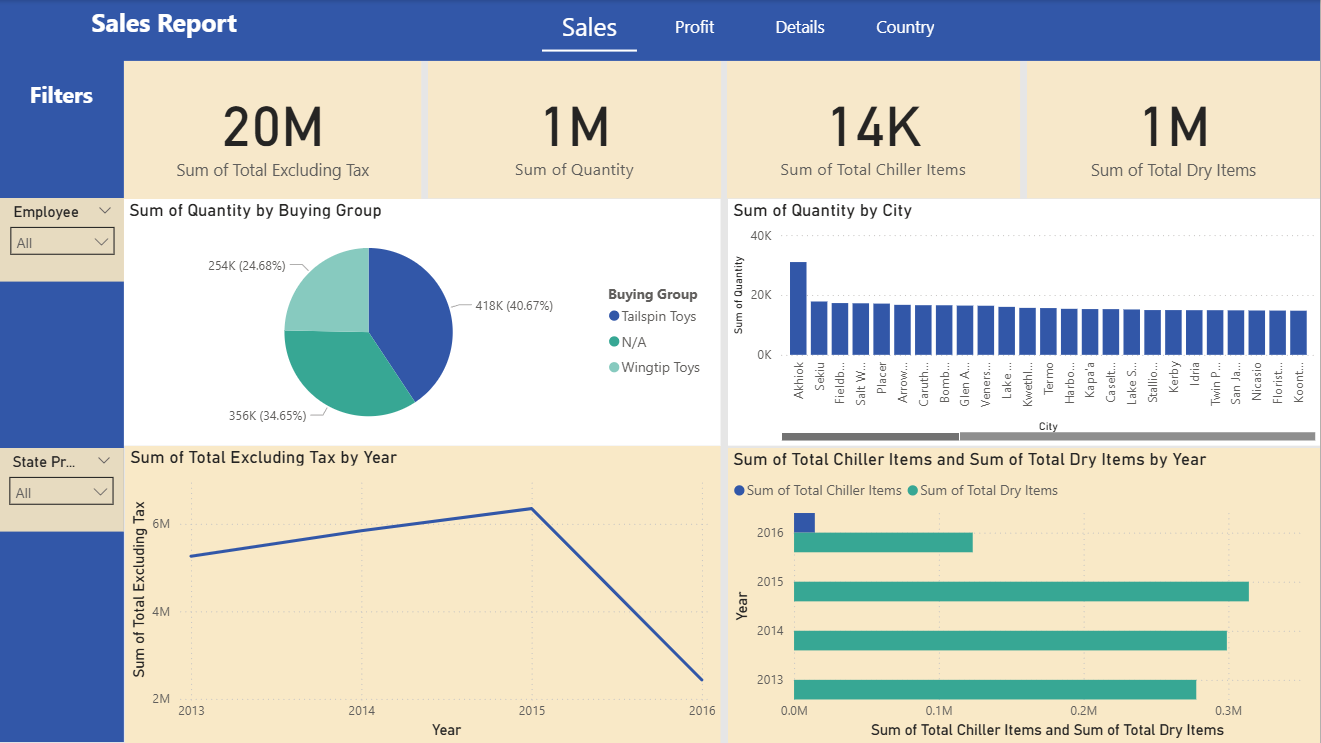

What the dashboard file says about the page in this screenshot:
{"tool":"powerbi","page":{"name":"Sales","canvas":[1280,720],"ordinal":0},"visuals":[{"type":"shape","box":[0,0,1280,59.1],"z":0},{"type":"shape","box":[0,0,121,719],"z":1000},{"type":"textbox","box":[0,0,313.2,59.3],"z":2000},{"type":"textbox","box":[0,72,120.6,66.1],"z":3000},{"type":"card","fields":{"Values":["Sum(FactSale.Total Dry Items)"]},"box":[996,59,284,133],"z":4000},{"type":"card","fields":{"Values":["Sum(FactSale.Total Chiller Items)"]},"box":[705.7,59.1,284,133.3],"z":5000},{"type":"card","fields":{"Values":["Sum(FactSale.Quantity)"]},"box":[415.3,59.1,284,133.3],"z":6000},{"type":"card","fields":{"Values":["Sum(FactSale.Total Excluding Tax)"]},"box":[121,58.7,288,134],"z":7000},{"type":"lineChart","fields":{"Category":["DimDate.Date.Variation.Date Hierarchy.Year","DimDate.Date.Variation.Date Hierarchy.Quarter","DimDate.Date.Variation.Date Hierarchy.Month","DimDate.Date.Variation.Date Hierarchy.Day"],"Y":["Sum(FactSale.Total Excluding Tax)"]},"box":[122,432,577,288],"z":8000},{"type":"clusteredBarChart","fields":{"Y":["Sum(FactSale.Total Chiller Items)","Sum(FactSale.Total Dry Items)"],"Category":["DimDate.Date.Variation.Date Hierarchy.Year","DimDate.Date.Variation.Date Hierarchy.Quarter","DimDate.Date.Variation.Date Hierarchy.Month","DimDate.Date.Variation.Date Hierarchy.Day"]},"box":[706,434,574,286],"z":9000},{"type":"slicer","fields":{"Values":["DimEmployee.Employee"]},"box":[1,192,121,81],"z":10000},{"type":"slicer","fields":{"Values":["DimCity.State Province"]},"box":[0,434,121,81],"z":11000},{"type":"pieChart","fields":{"Category":["DimCustomer.Buying Group"],"Y":["Sum(FactSale.Quantity)"]},"box":[121,193,578,239],"z":12000},{"type":"columnChart","fields":{"Category":["DimCity.City"],"Y":["Sum(FactSale.Quantity)"]},"box":[706,193,574,239],"z":13000},{"type":"pageNavigator","box":[526,0,400,50],"z":14000}]}

Visuals, with their boxes in screenshot pixels (x1, y1, x2, y2), scaled from the page's 1280x720 canvas onto the 1321x743 screenshot:
shape: (0,0,1320,61)
shape: (0,0,125,742)
textbox: (0,0,323,61)
textbox: (0,74,124,143)
card - Sum(FactSale.Total Dry Items): (1028,61,1320,198)
card - Sum(FactSale.Total Chiller Items): (728,61,1021,199)
card - Sum(FactSale.Quantity): (429,61,722,199)
card - Sum(FactSale.Total Excluding Tax): (125,61,422,199)
lineChart - DimDate.Date.Variation.Date Hierarchy.Year x DimDate.Date.Variation.Date Hierarchy.Quarter: (126,446,721,742)
clusteredBarChart - Sum(FactSale.Total Chiller Items) x Sum(FactSale.Total Dry Items): (729,448,1320,742)
slicer - DimEmployee.Employee: (1,198,126,282)
slicer - DimCity.State Province: (0,448,125,531)
pieChart - DimCustomer.Buying Group x Sum(FactSale.Quantity): (125,199,721,446)
columnChart - DimCity.City x Sum(FactSale.Quantity): (729,199,1320,446)
pageNavigator: (543,0,956,52)
